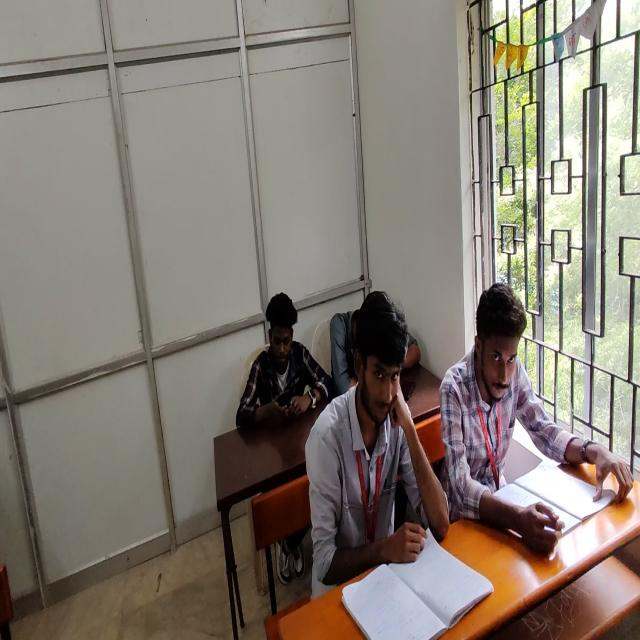listening: (443, 284, 639, 550), (303, 290, 438, 600)
sleeping: (331, 304, 415, 400)
using_mobile: (233, 291, 330, 427)
